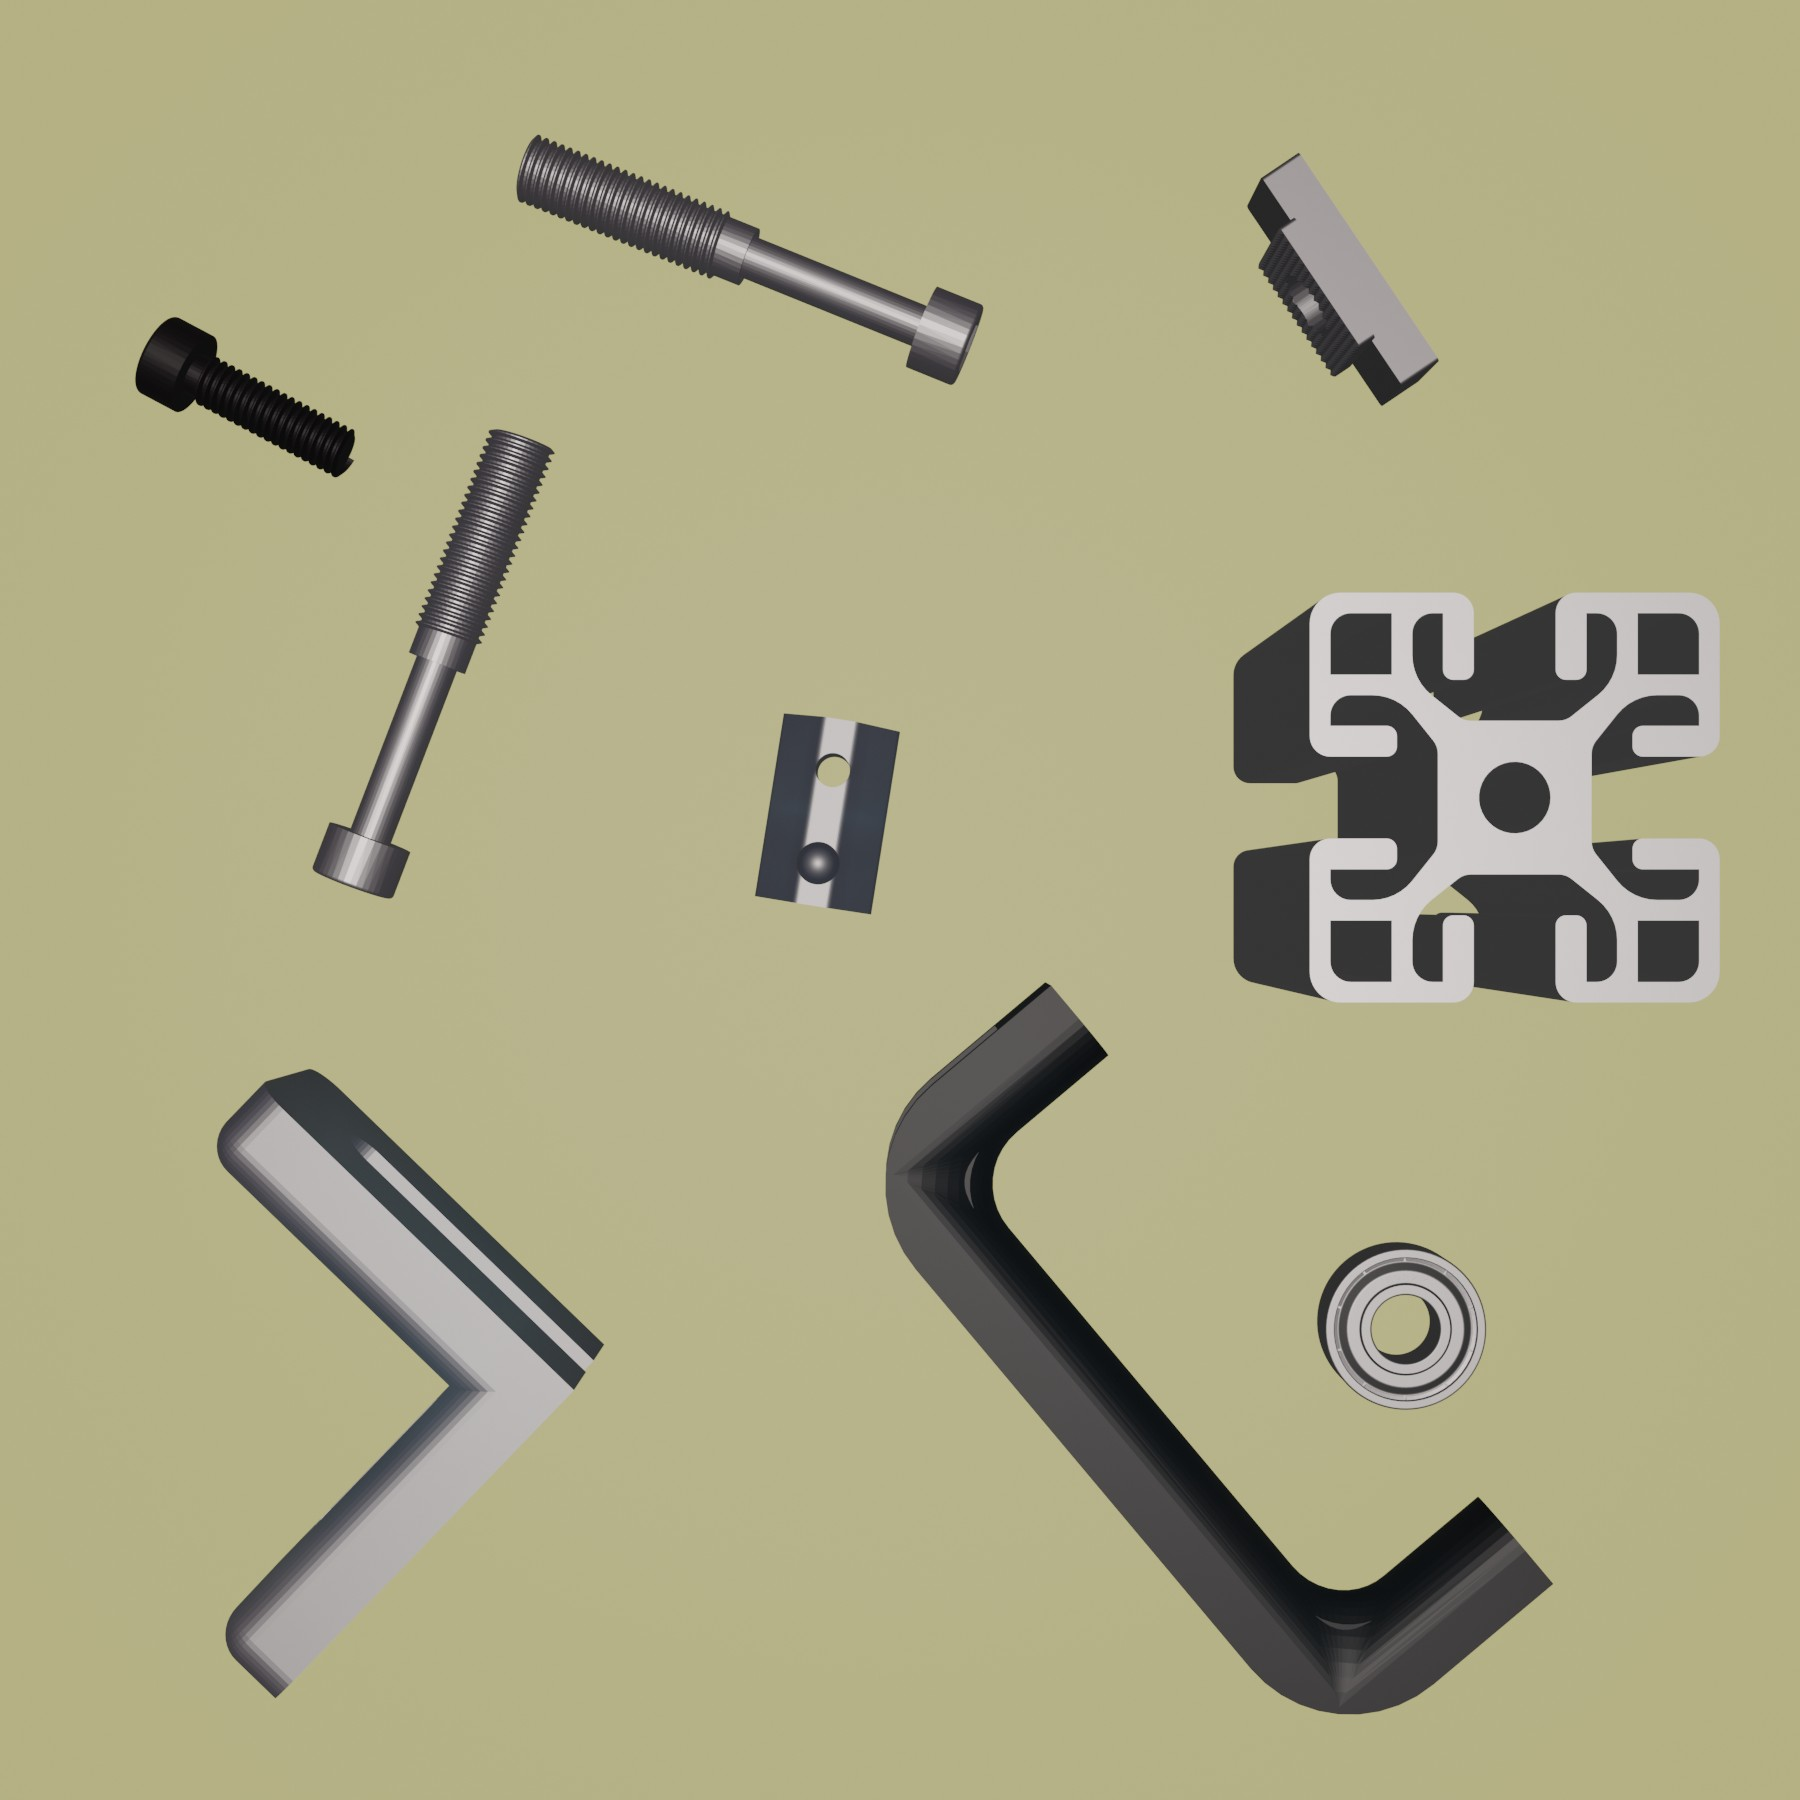Aluminium Extension: (1226, 588, 1724, 1009)
Ball Bearing: (1314, 1241, 1490, 1413)
Multiwinkel: (214, 1065, 607, 1699)
Pull Handle: (880, 976, 1554, 1716)
Shoulder Socket Head Cap Screw: (511, 130, 986, 387), (308, 424, 559, 902)
Socket Head Cap Screw: (132, 312, 359, 480)
T Nut Square: (1243, 152, 1442, 409)
T Spring Nut: (750, 710, 905, 920)
